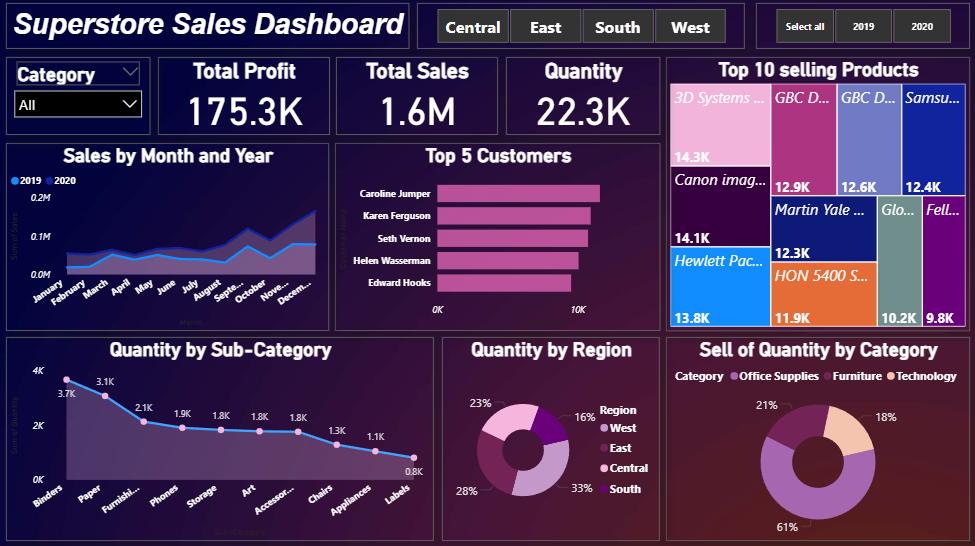

Layout of this report page (visuals, bound fields, positions):
{"tool":"powerbi","page":{"name":"Page 1","canvas":[1280,720],"ordinal":0},"visuals":[{"type":"treemap","title":"Top 10 selling Products","fields":{"Group":["SuperStore_Sales_Dataset.Product Name"],"Values":["Sum(SuperStore_Sales_Dataset.Sales)"]},"box":[874.5,77.2,398,358.7],"z":0},{"type":"barChart","title":"Top 5 Customers","fields":{"Category":["SuperStore_Sales_Dataset.Customer Name"],"Y":["Sum(SuperStore_Sales_Dataset.Sales)"]},"box":[440.6,190.1,426.2,246.2],"z":1000},{"type":"textbox","box":[10.5,6.5,527.6,60.2],"z":2000},{"type":"areaChart","title":"Sales by Month and Year","fields":{"Category":["SuperStore_Sales_Dataset.Order Date.Variation.Date Hierarchy.Month","SuperStore_Sales_Dataset.Order Date.Variation.Date Hierarchy.Day"],"Y":["Sum(SuperStore_Sales_Dataset.Sales)"],"Series":["SuperStore_Sales_Dataset.Order Date.Variation.Date Hierarchy.Year"]},"box":[10.5,189.8,422.8,246.1],"z":3000},{"type":"donutChart","title":"Sell of Quantity by Category","fields":{"Y":["Sum(SuperStore_Sales_Dataset.Quantity)"],"Category":["SuperStore_Sales_Dataset.Category"]},"box":[874.5,443.8,398,267.1],"z":5000},{"type":"lineChart","title":"Quantity by Sub-Category","fields":{"Y":["Sum(SuperStore_Sales_Dataset.Quantity)"],"Category":["SuperStore_Sales_Dataset.Sub-Category"]},"box":[10.5,443.8,560.3,267.1],"z":6000},{"type":"card","title":"Total Profit","fields":{"Values":["Sum(SuperStore_Sales_Dataset.Profit)"]},"box":[208.8,77.8,224.6,102.2],"z":6002},{"type":"card","title":"Total Sales","fields":{"Values":["Sum(SuperStore_Sales_Dataset.Sales)"]},"box":[442.1,77.8,211.7,102.2],"z":6004},{"type":"slicer","fields":{"Values":["SuperStore_Sales_Dataset.Order Date.Variation.Date Hierarchy.Year"]},"box":[992.3,6.5,280.1,60.2],"z":6005},{"type":"slicer","fields":{"Values":["SuperStore_Sales_Dataset.Region"]},"box":[548.5,6.5,429.4,60.2],"z":6006},{"type":"slicer","fields":{"Values":["SuperStore_Sales_Dataset.Category"]},"box":[10.1,77.8,188.6,102.2],"z":6007},{"type":"card","title":"Quantity","fields":{"Values":["Sum(SuperStore_Sales_Dataset.Quantity)"]},"box":[665.3,77.8,201.6,102.2],"z":6008},{"type":"donutChart","title":"Quantity by Region","fields":{"Category":["SuperStore_Sales_Dataset.Region"],"Y":["Sum(SuperStore_Sales_Dataset.Quantity)"]},"box":[581.2,443.8,285.4,267.1],"z":6009}]}

Visuals, with their boxes in screenshot pixels (x1, y1, x2, y2), scaled from the page's 1280x720 canvas onto the 975x546 screenshot:
"Top 10 selling Products" treemap: 666/59/969/331
"Top 5 Customers" barChart: 336/144/660/331
textbox: 8/5/410/51
"Sales by Month and Year" areaChart: 8/144/330/331
"Sell of Quantity by Category" donutChart: 666/337/969/539
"Quantity by Sub-Category" lineChart: 8/337/435/539
"Total Profit" card: 159/59/330/136
"Total Sales" card: 337/59/498/136
slicer - SuperStore_Sales_Dataset.Order Date.Variation.Date Hierarchy.Year: 756/5/969/51
slicer - SuperStore_Sales_Dataset.Region: 418/5/745/51
slicer - SuperStore_Sales_Dataset.Category: 8/59/151/136
"Quantity" card: 507/59/660/136
"Quantity by Region" donutChart: 443/337/660/539
